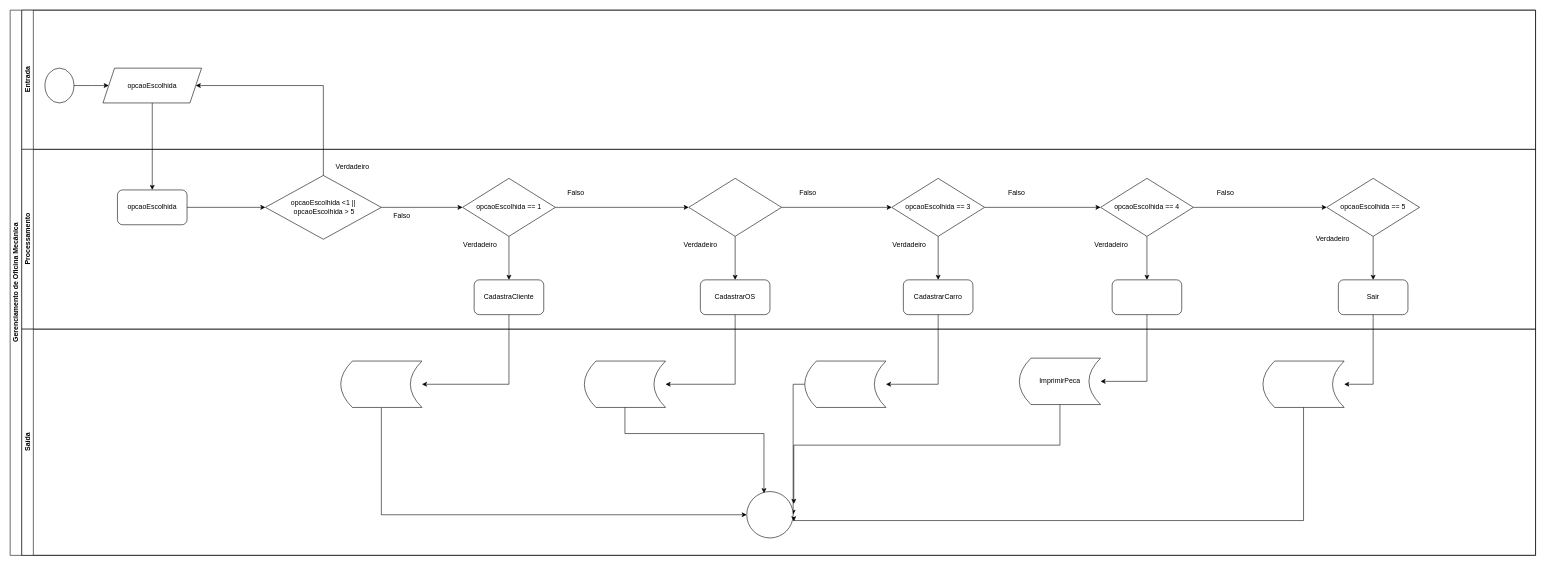
The diagram is 1546 pixels wide and 566 high, and some of its shapes have lost their labels. Each missing label, with the centre of its shape:
"CadastrarPeca" belongs at (1147,297).
"Fim" belongs at (769,514).
"ImprimirCarro" belongs at (845,383).
"ImprimirClientes" belongs at (381,383).
"ImprimirOS" belongs at (625,383).
"Inicio" belongs at (59,85).
"opcaoEscolhida == 2" belongs at (735,207).
"Saindo" belongs at (1303,383).
